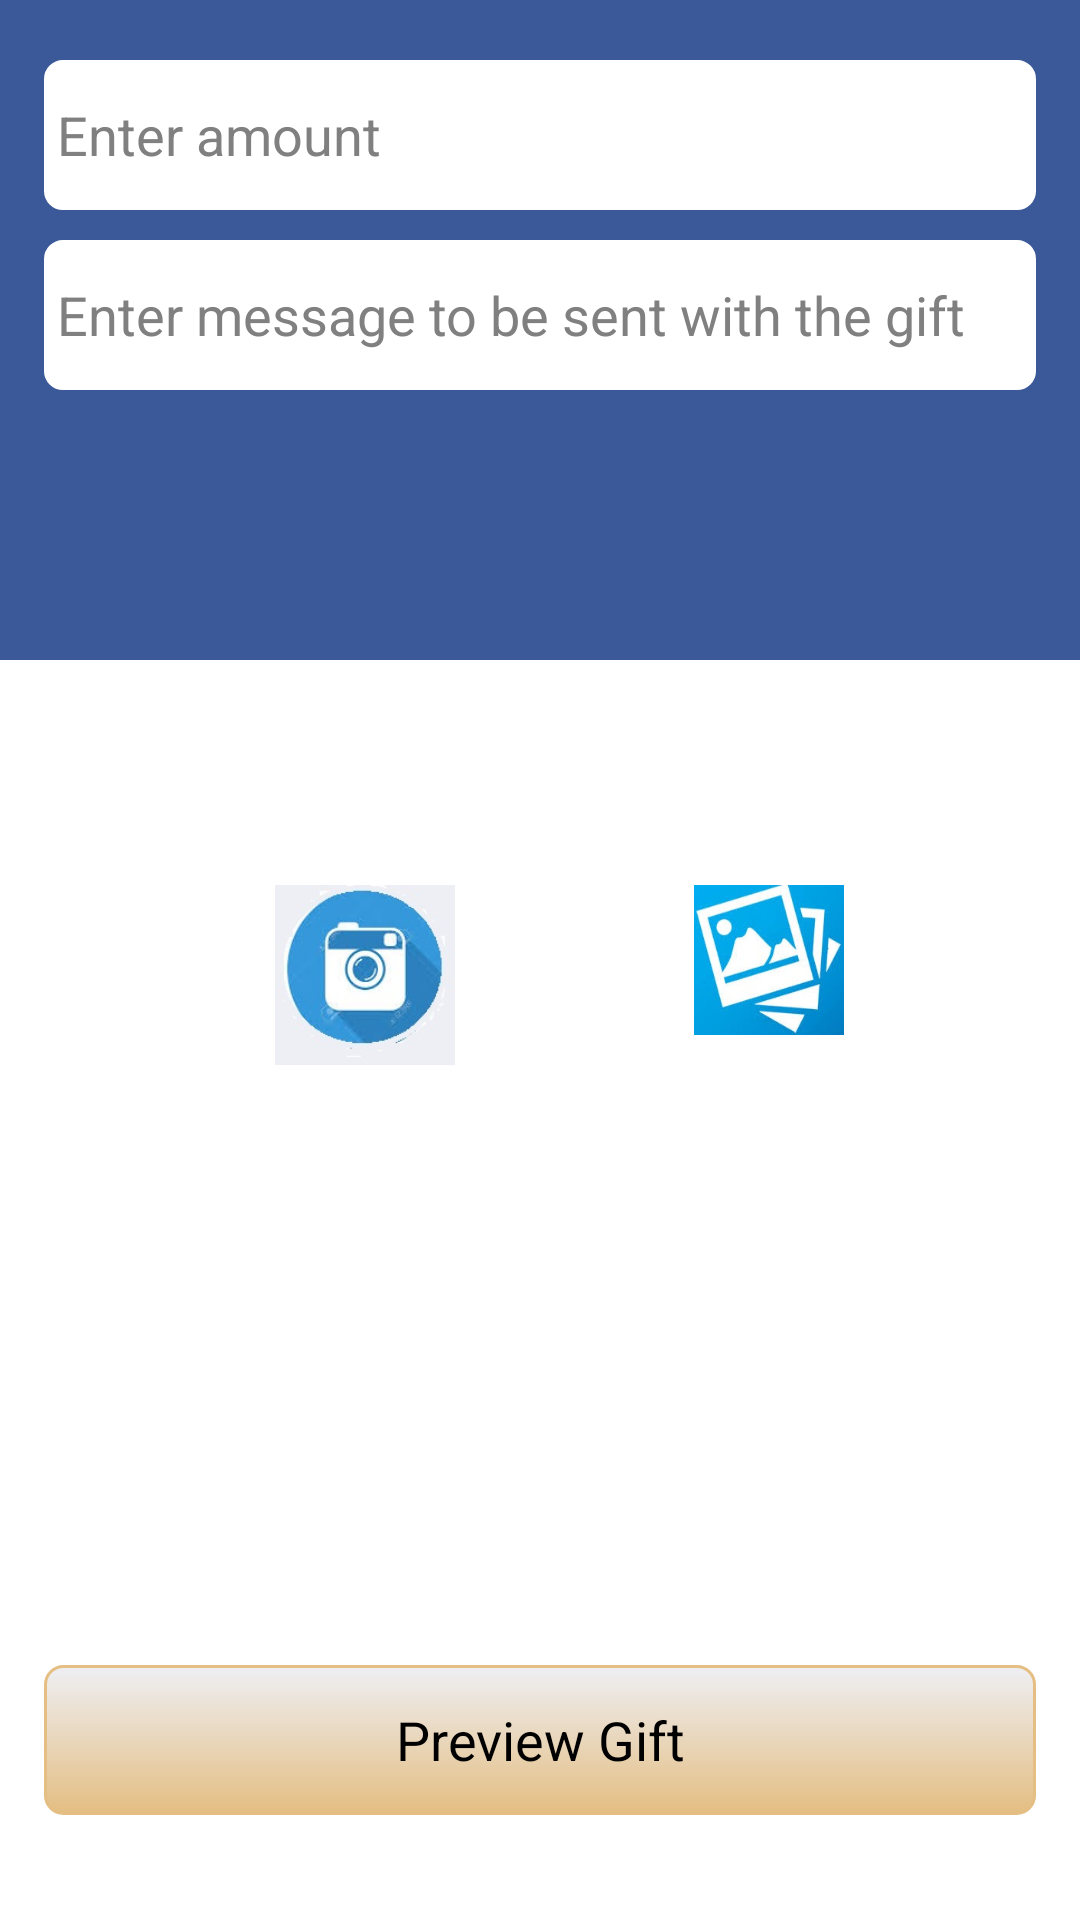

Icon click points for this 1080×1920 phone screenshot, format [x,y]:
gall: [769,960]
